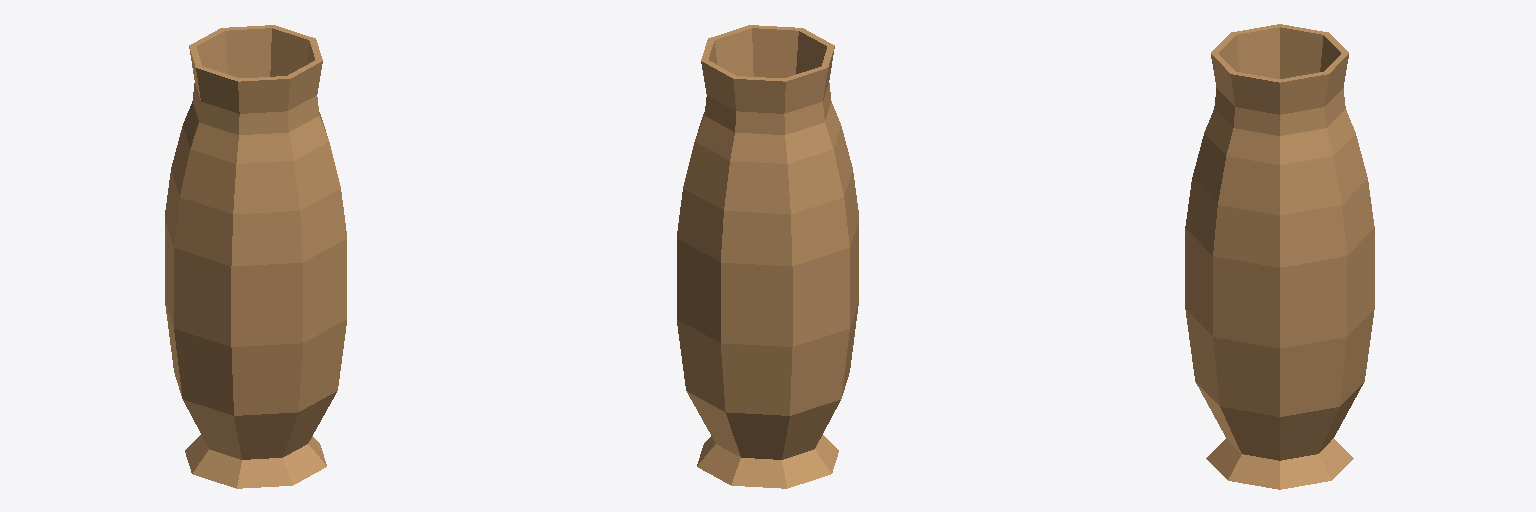
Rendered from Prop_Vase_1.obj.
3 renders of one model, left to right at view 1: azimuth 30°, elevation 25°; view 2: azimuth 150°, elevation 25°; view 3: azimuth 270°, elevation 25°, orthographic.
Parts seen in each view (by area): view 1: object1; view 2: object1; view 3: object1.
Part boxes in pixels (x1,y1,x2,y2): object1: (165,25,346,488); object1: (677,25,858,488); object1: (1185,24,1374,489).
Bounding box in the file's own units: 0.1985 × 0.4686 × 0.1985.